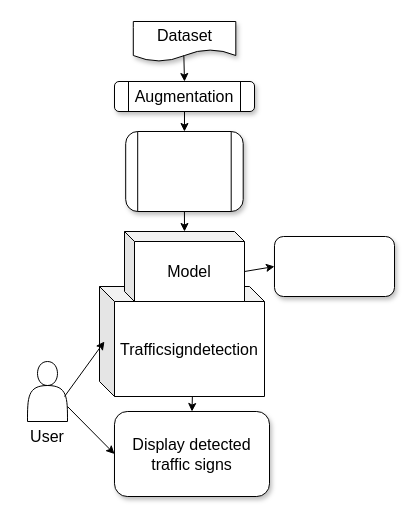
This 418x521 diagram has some shape labels left out. The shapes that lost their labels are listed below. From the top down, each one's centre as x and y in pixels, then its label:
(x=185, y=172): Train and Save Model
(x=335, y=268): Results and evaluation
